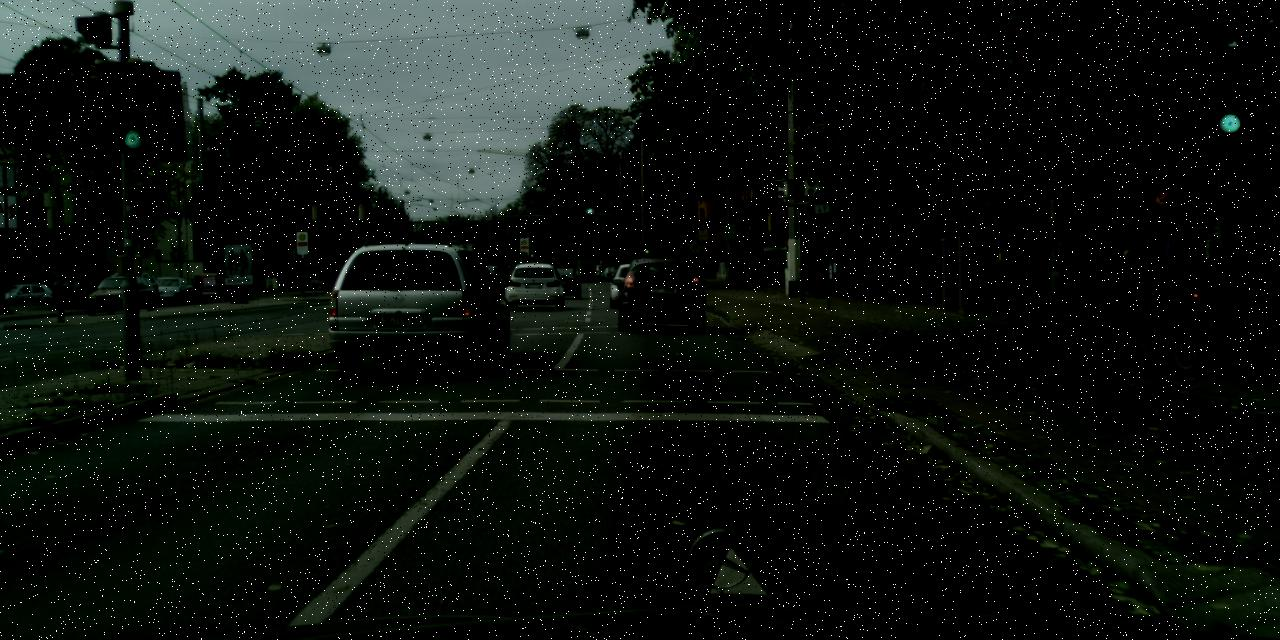ped: (1136, 190, 1196, 341), (490, 267, 500, 292), (506, 268, 512, 282)
